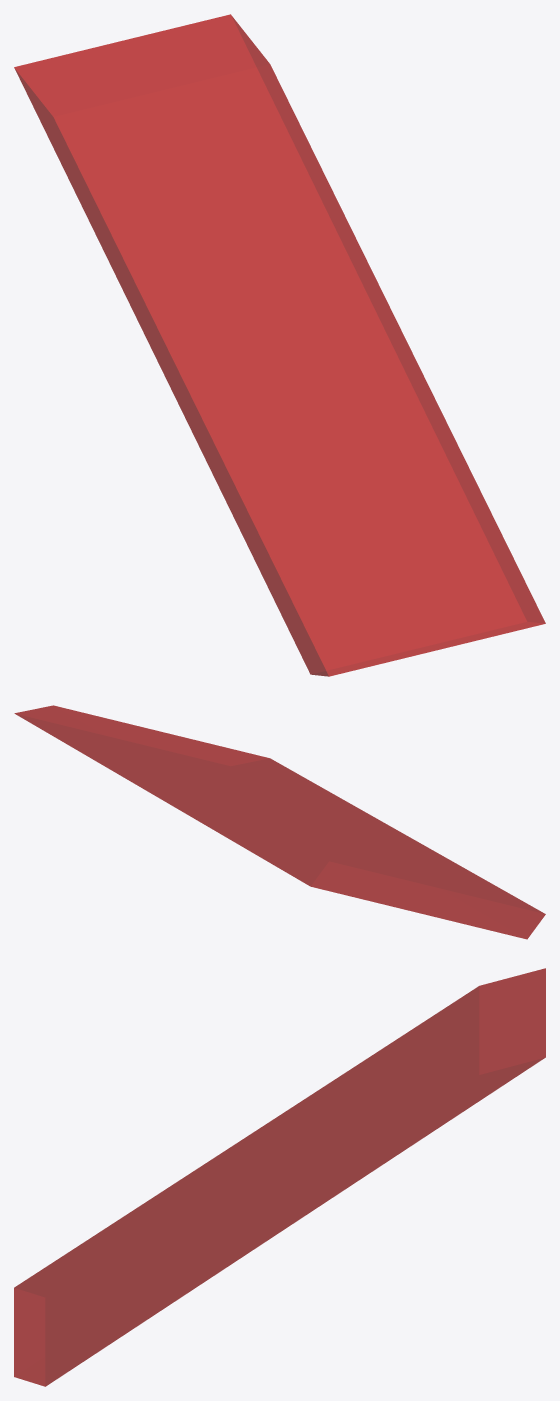
The model's file is SM_Prop_Camp_Wood_Stairs_02_Collision.fbx.
3 renders of one model, top to bottom at view 1: azimuth 30°, elevation 25°; view 2: azimuth 150°, elevation 25°; view 3: azimuth 270°, elevation 25°, orthographic. The views are drawn at different scales.
Visible parts, largest first — view 1: SM_Prop_Camp_Wood_Stairs_02_Collision; view 2: SM_Prop_Camp_Wood_Stairs_02_Collision; view 3: SM_Prop_Camp_Wood_Stairs_02_Collision.
Part boxes in pixels (<box>): SM_Prop_Camp_Wood_Stairs_02_Collision: <box>14,14,545,676</box>; SM_Prop_Camp_Wood_Stairs_02_Collision: <box>14,705,545,939</box>; SM_Prop_Camp_Wood_Stairs_02_Collision: <box>14,968,545,1386</box>.
Size of the model in its own units: 97.68 by 168 by 246.
